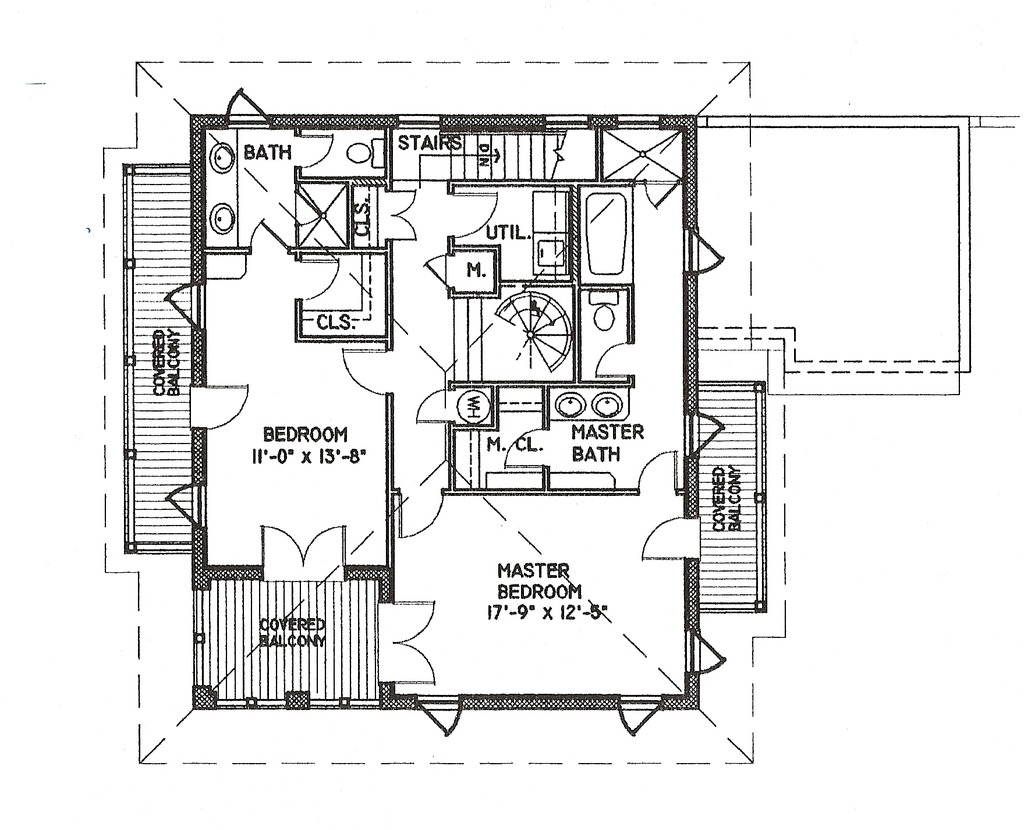door: (377, 599, 438, 689), (256, 524, 349, 581), (336, 344, 393, 398), (187, 384, 256, 428), (450, 188, 500, 242), (638, 514, 686, 567), (397, 488, 443, 538), (294, 255, 343, 301), (501, 424, 548, 470), (593, 340, 638, 388), (635, 447, 680, 494), (385, 185, 419, 242), (245, 219, 289, 255), (415, 389, 453, 424)
large_sink: (586, 288, 626, 331), (343, 136, 388, 168)
small_sink: (203, 131, 239, 251), (545, 386, 631, 424)
stairs: (494, 288, 574, 374)
tub: (581, 188, 630, 283)
